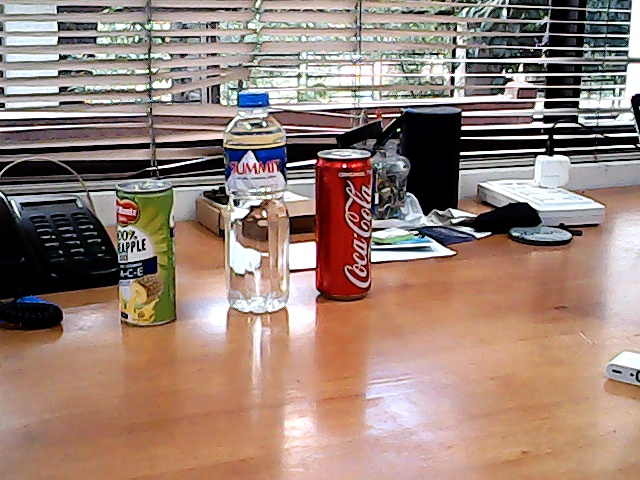Cola: (302, 143, 393, 310)
Pine Juice: (108, 175, 184, 339)
Summit Water: (215, 84, 296, 323)
